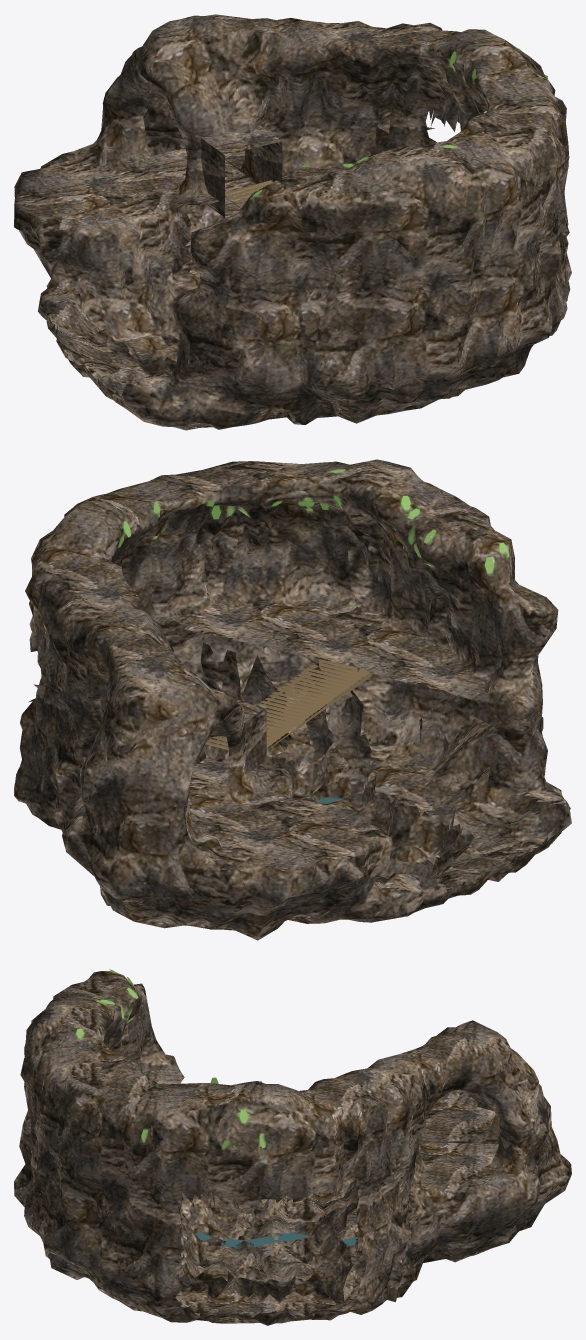
The model's file is room.glb.
The picture shows the model from 3 angles, top to bottom: view 1: azimuth 30°, elevation 25°; view 2: azimuth 150°, elevation 25°; view 3: azimuth 270°, elevation 25°; orthographic projection. The views are drawn at different scales.
Visible parts, largest first — view 1: NARROW-TUNNEL; view 2: NARROW-TUNNEL; view 3: NARROW-TUNNEL.
Part boxes in pixels (x1,y1,x2,y2): NARROW-TUNNEL: (14, 14, 571, 430); NARROW-TUNNEL: (14, 459, 571, 940); NARROW-TUNNEL: (14, 969, 571, 1325).
Bounding box in the file's own units: 20.54 × 11.98 × 23.82.
Materials: 1 (1 with a texture image).
